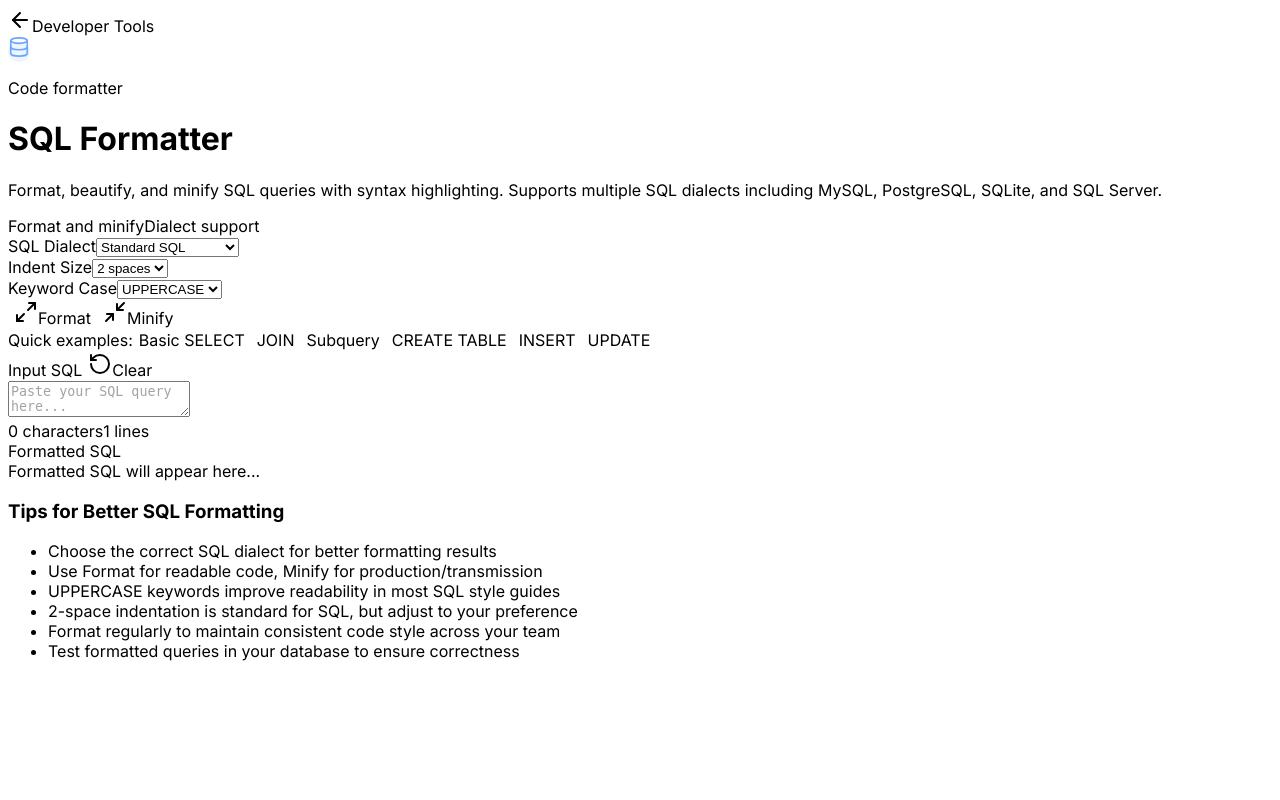
Test: SQLFormatterPage › Clear Functionality › clears all inputs when Clear button is clicked
Type "SELECT * FROM users" into the text box with placeholder "Paste your SQL query here..." at (99, 399), box x1=8 y1=381 x2=190 y2=417
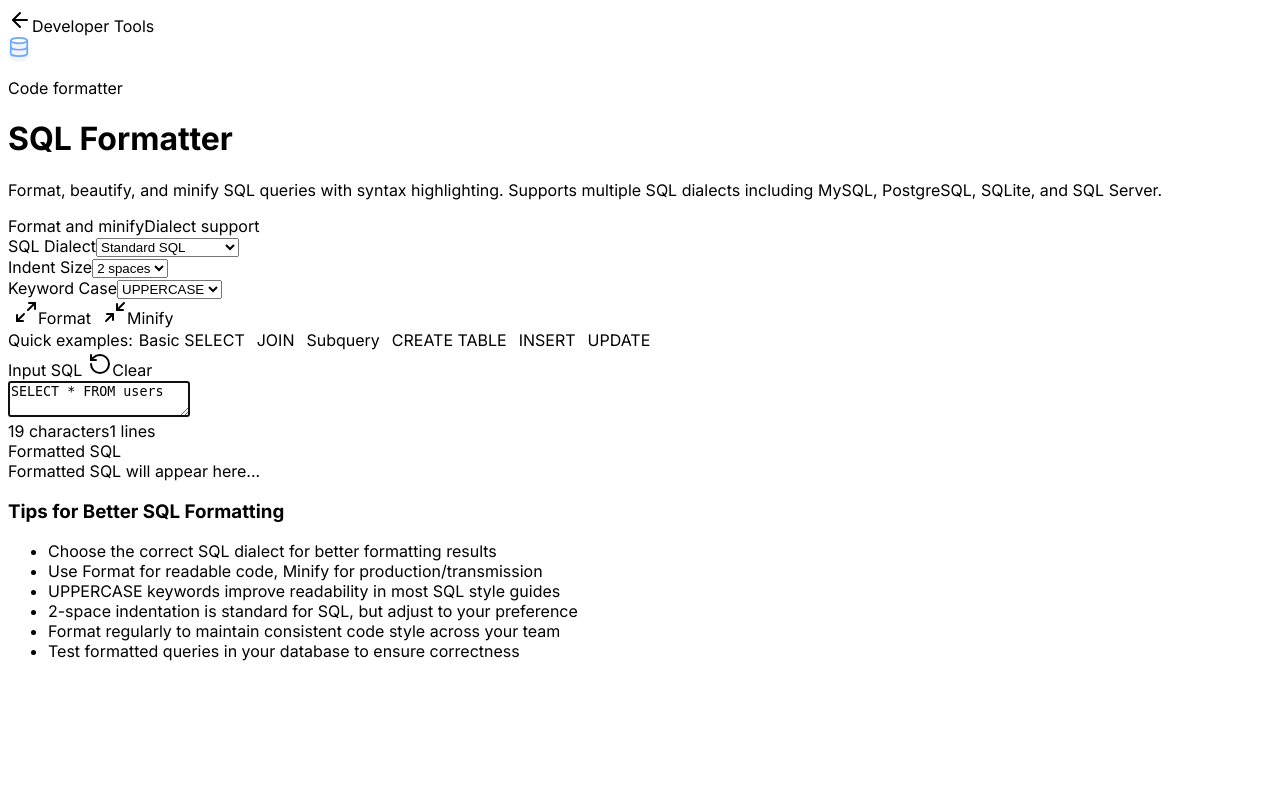
Click the button "Format" at (52, 314), box x1=8 y1=299 x2=97 y2=329
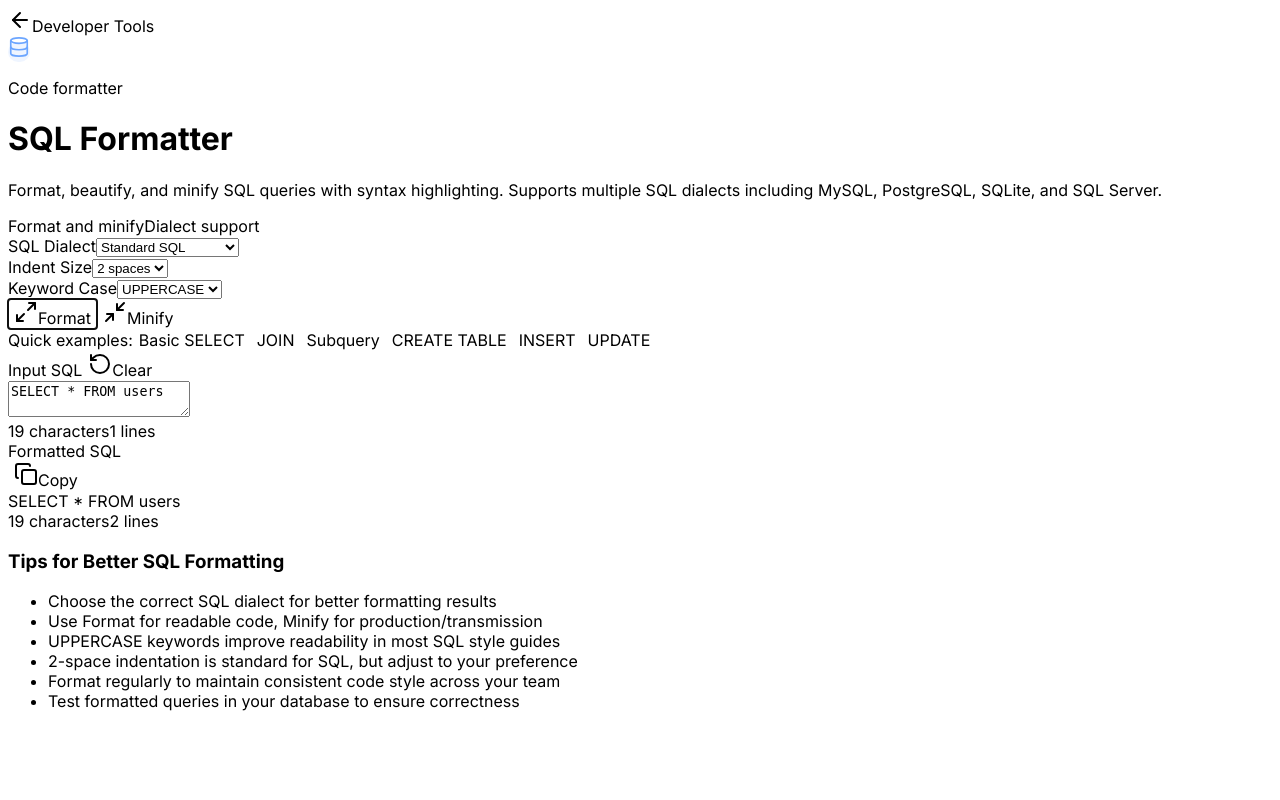
Click the button "Clear" at (120, 366), box x1=82 y1=351 x2=158 y2=381
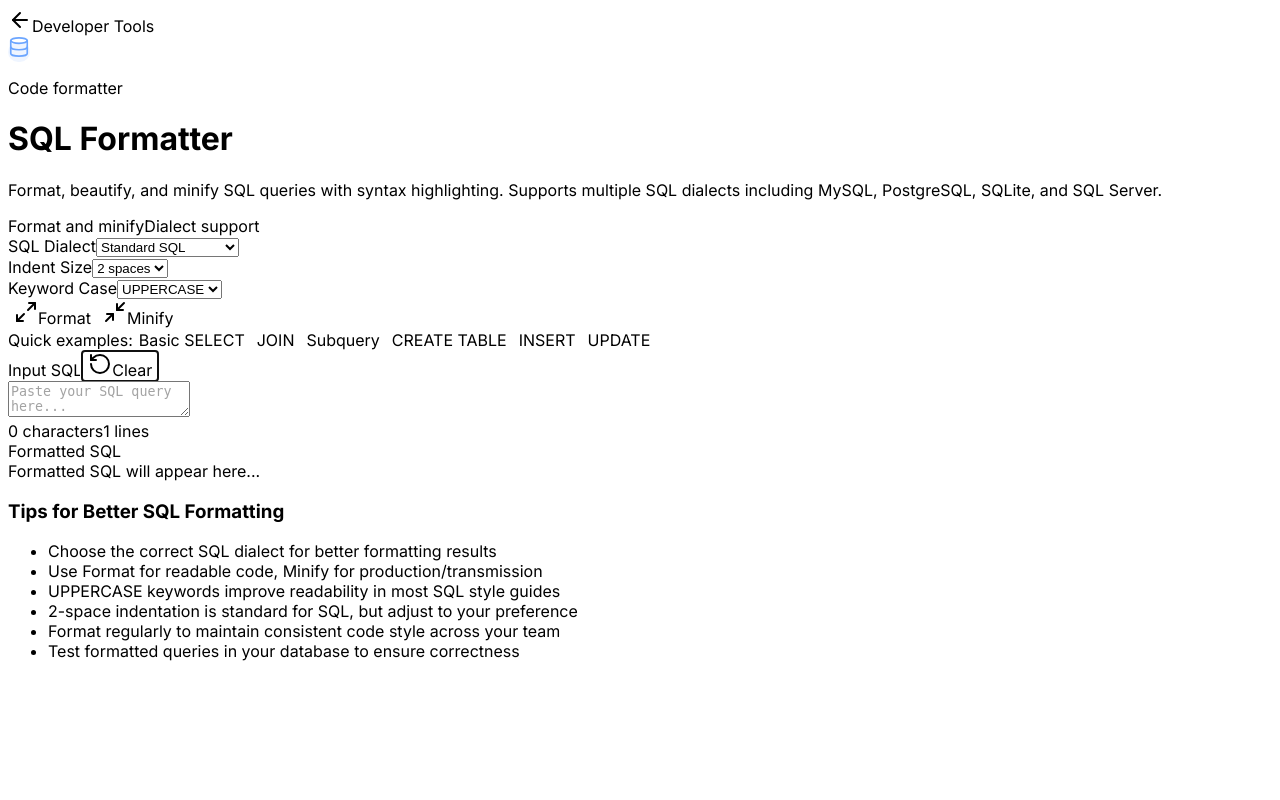
Check: the text box with placeholder "Paste your SQL query here..." is empty, box x1=8 y1=381 x2=190 y2=417
